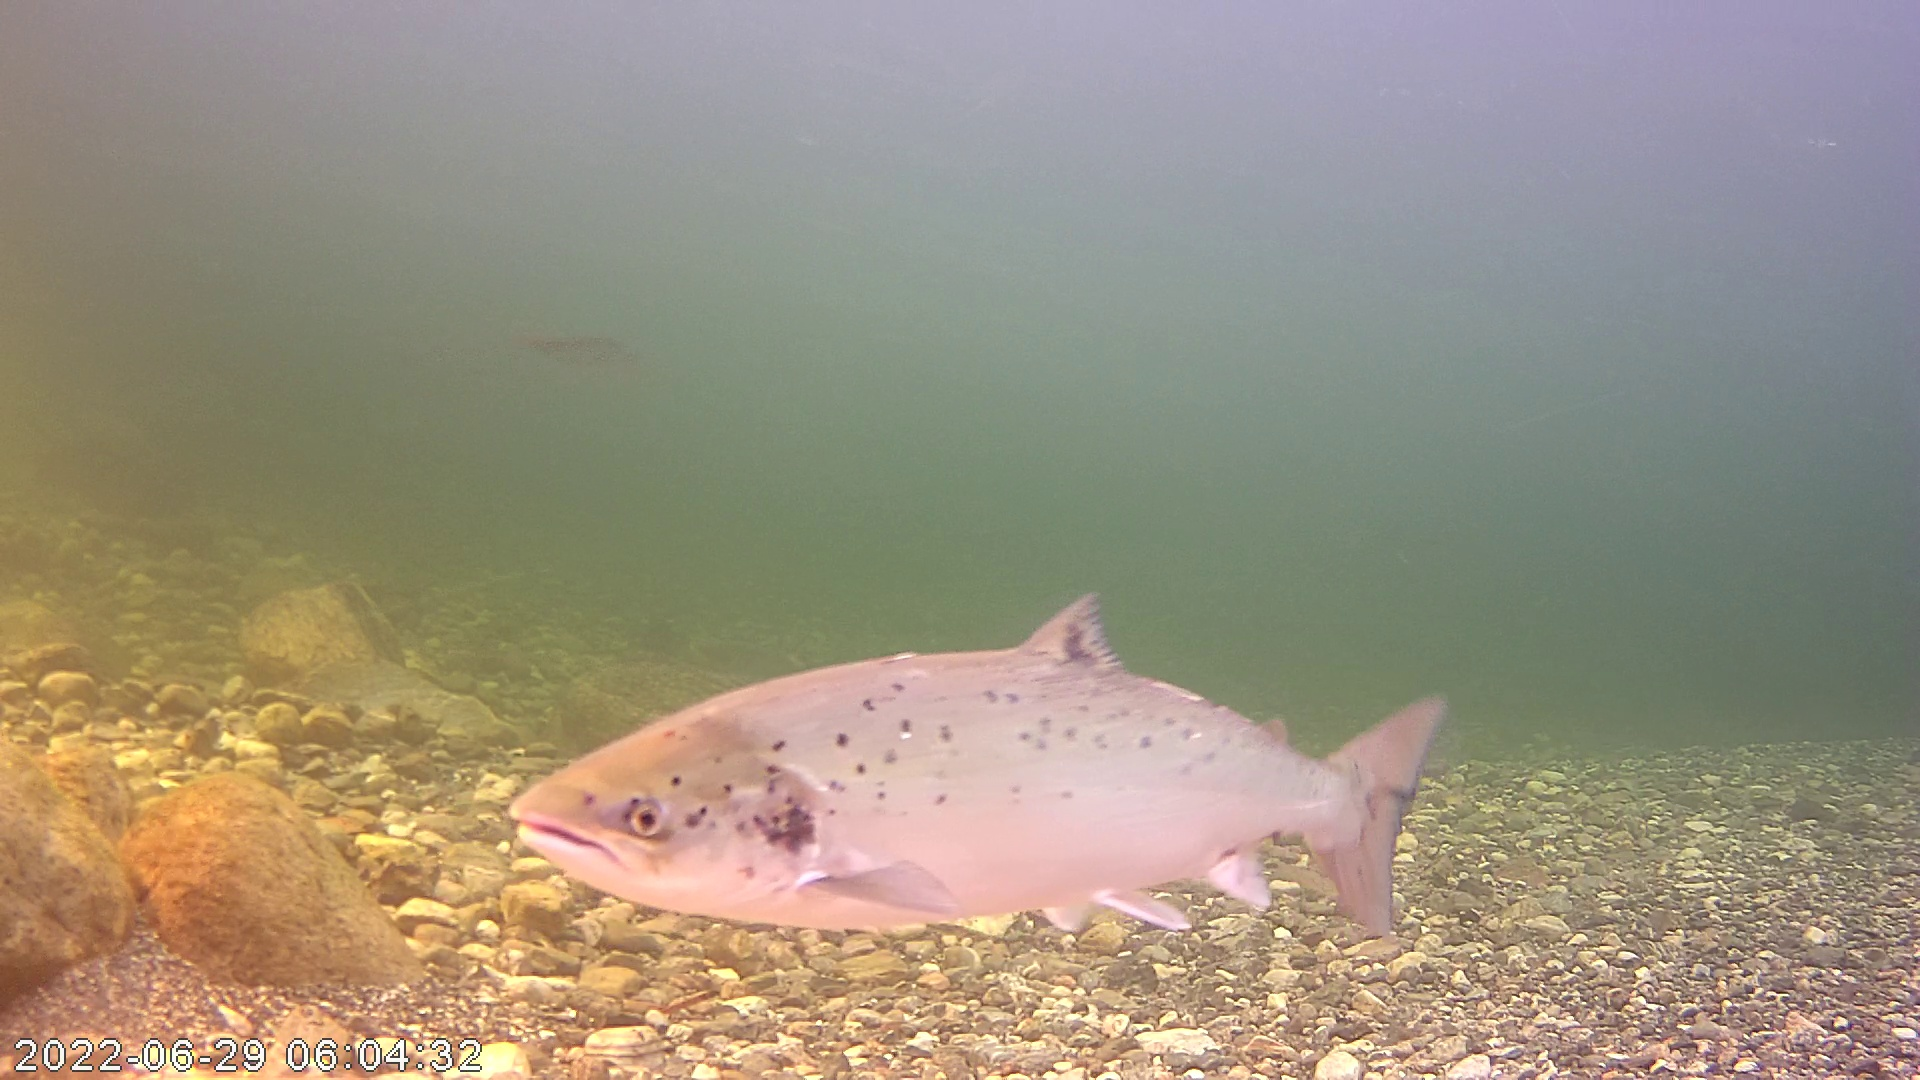salmon: (514, 550, 1443, 953)
